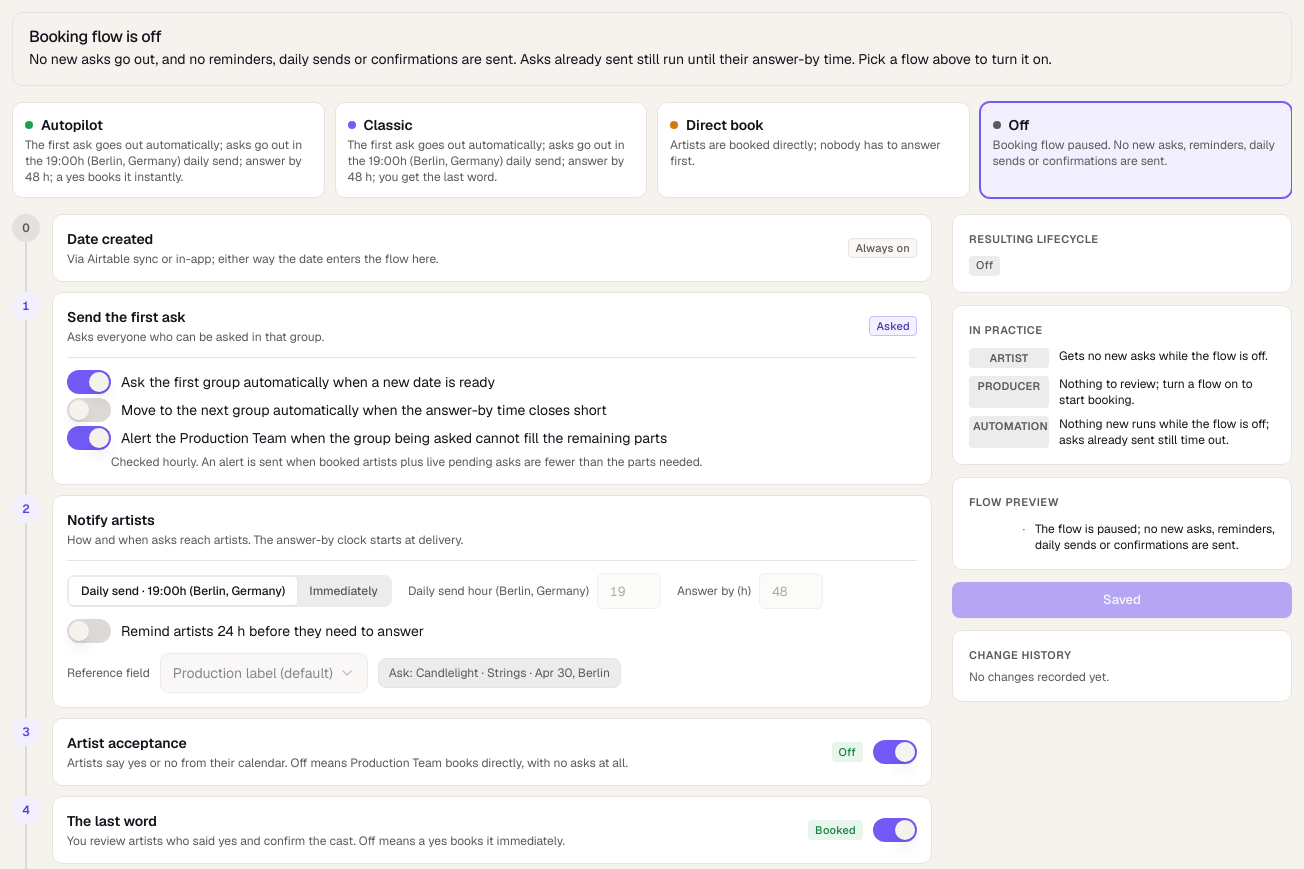
Test case: BookingFlowTab › off state › selecting a real preset from Off turns the flow active
Click the button that starts with "Classic": [491, 150] box [334,102,647,198]
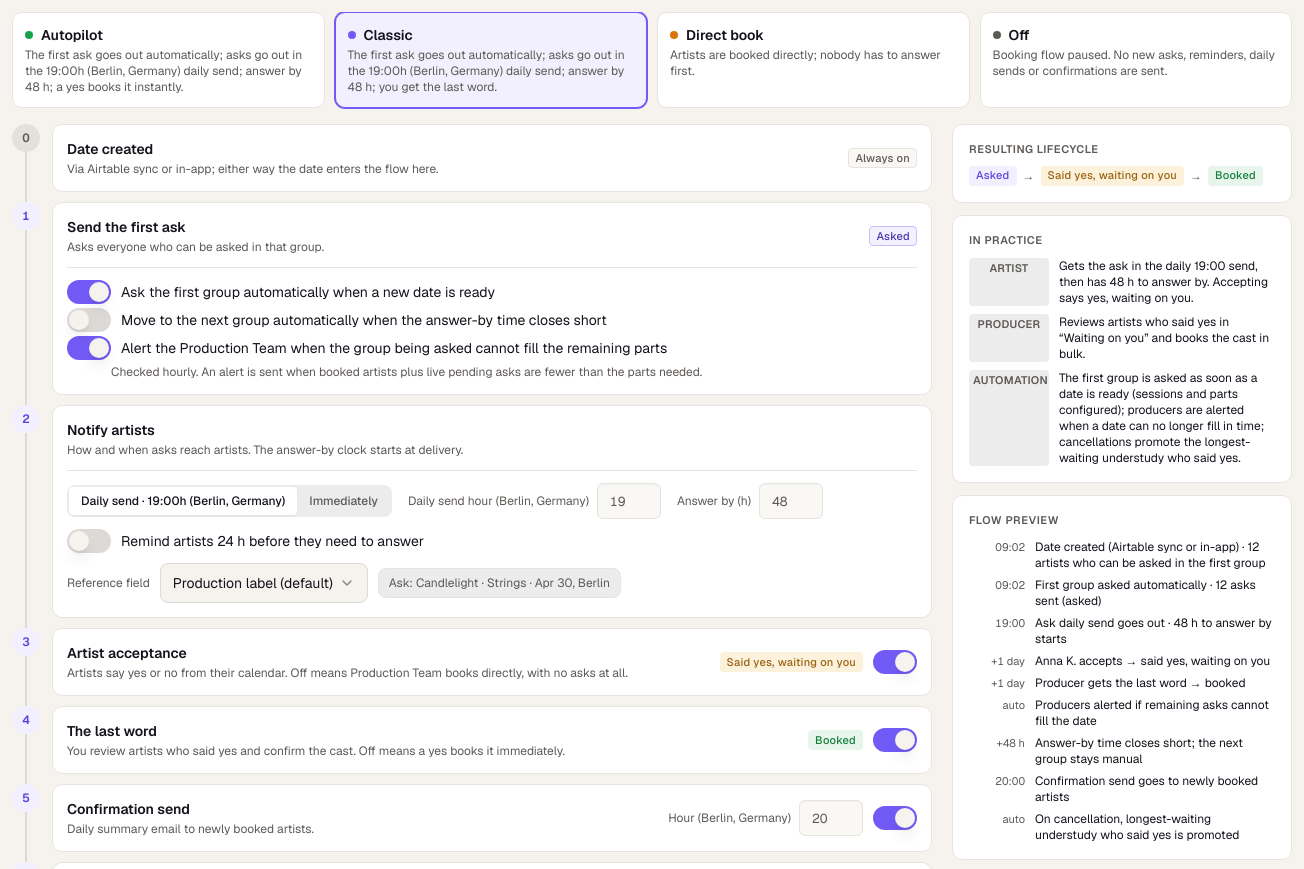
Expected: the heading "Booking flow is off" is gone
